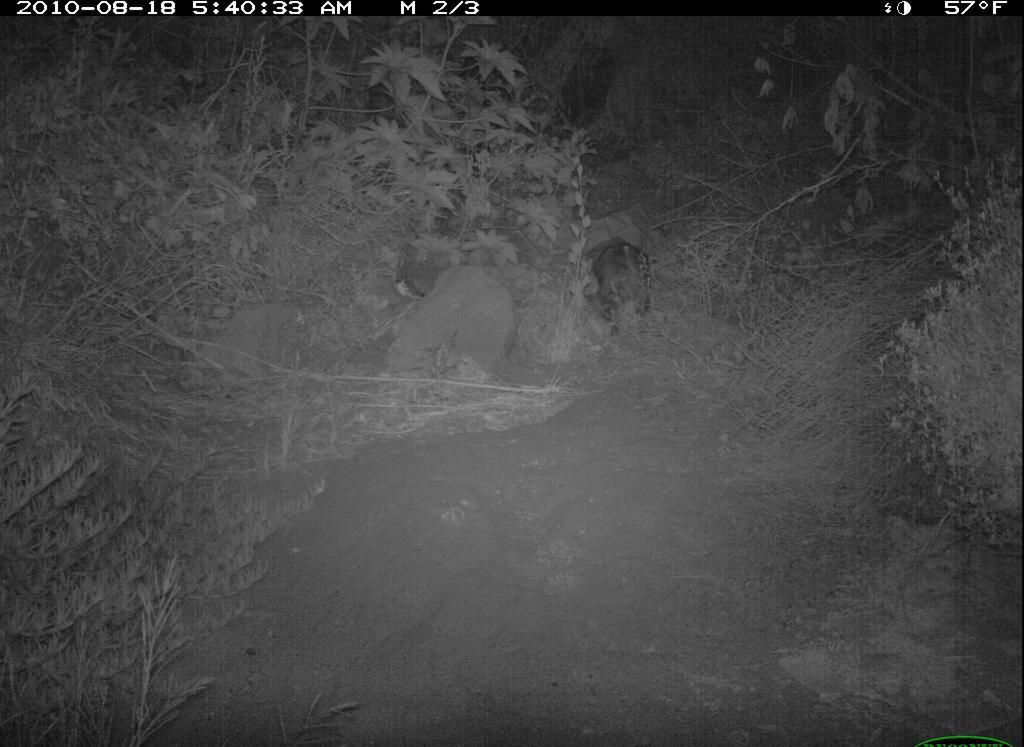raccoon: (578, 227, 675, 347)
